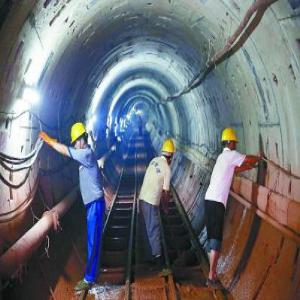yellow: (70, 123, 89, 152), (221, 127, 240, 155), (161, 140, 176, 166)
